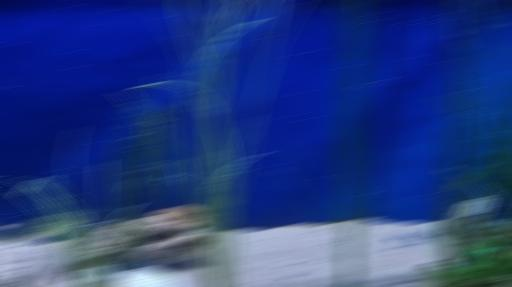Fish: (0, 216, 56, 243)
